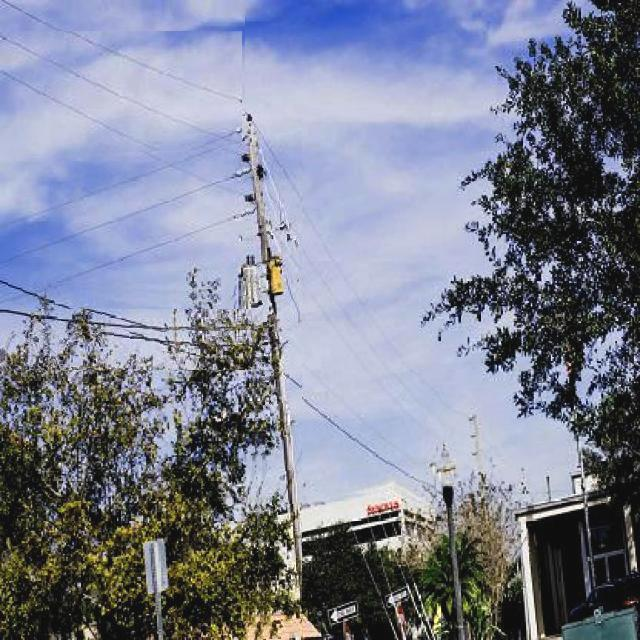pole: (245, 119, 302, 632)
wire: (0, 32, 242, 150), (0, 0, 245, 116), (0, 279, 252, 370), (275, 374, 438, 493), (0, 310, 268, 333)
